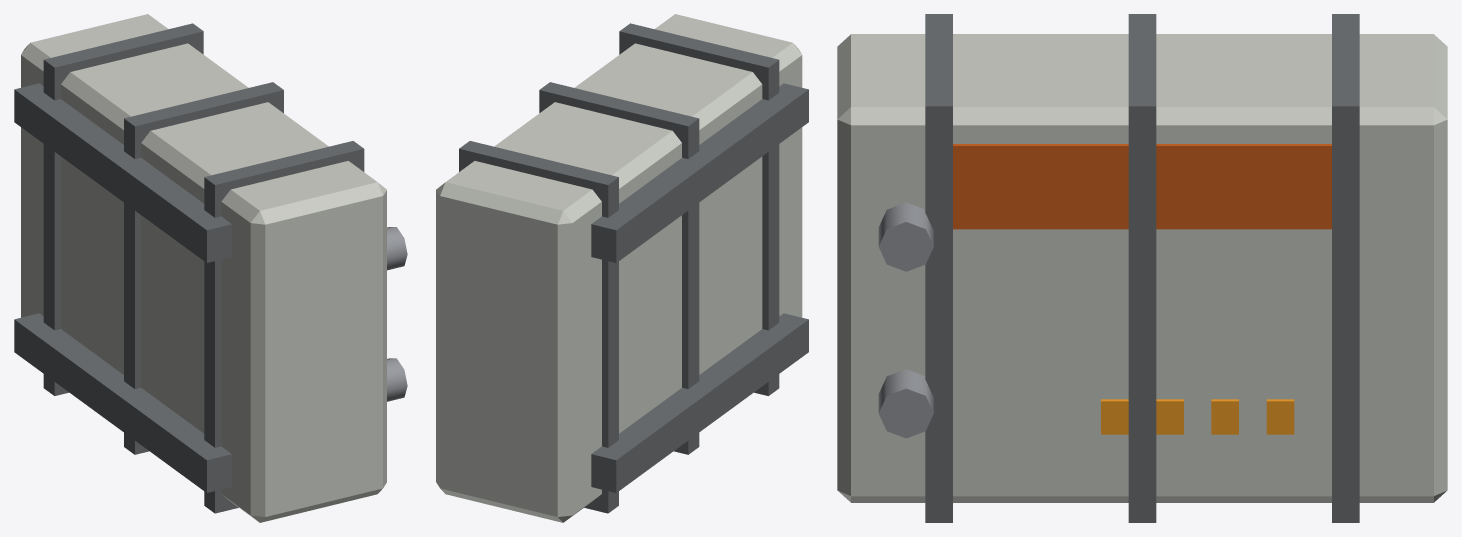
File: u33_field_ctl.obj
3 renders of one model, left to right at view 1: azimuth 30°, elevation 25°; view 2: azimuth 150°, elevation 25°; view 3: azimuth 270°, elevation 25°, orthographic. The views are drawn at different scales.
Parts seen in each view (by area): view 1: u33_field_ctl; view 2: u33_field_ctl; view 3: u33_field_ctl.
Part boxes in pixels (x1=…): u33_field_ctl: x1=14, y1=14, x2=407, y2=522; u33_field_ctl: x1=436, y1=14, x2=808, y2=522; u33_field_ctl: x1=837, y1=14, x2=1447, y2=522.
Bounding box in the file's own units: 0.615 × 1 × 1.33.
